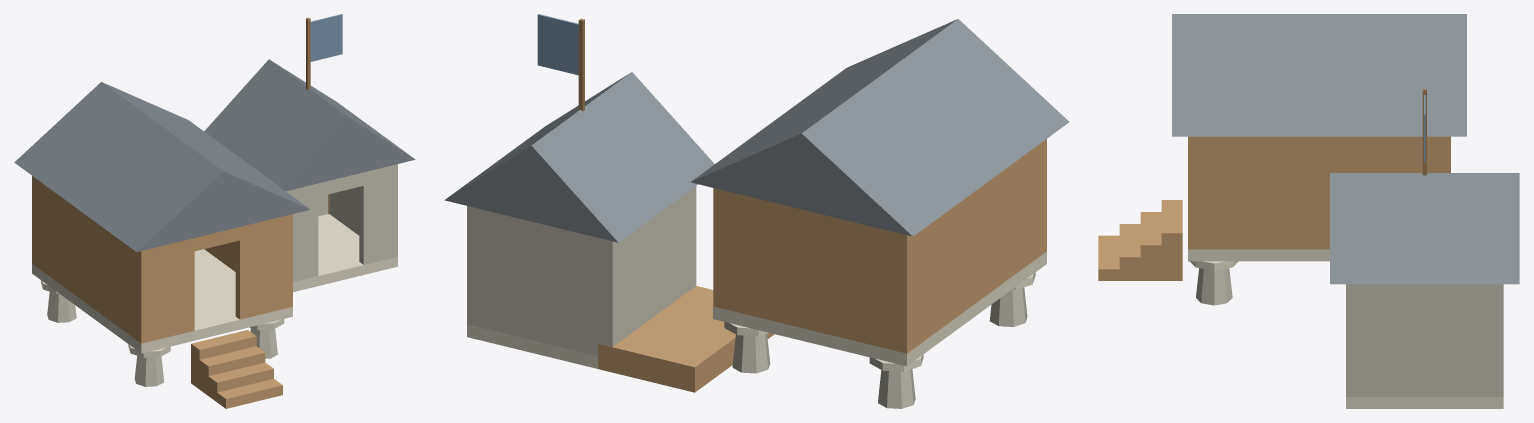
The model's file is granary-upgraded.glb.
The picture shows the model from 3 angles, left to right: view 1: azimuth 30°, elevation 25°; view 2: azimuth 150°, elevation 25°; view 3: azimuth 270°, elevation 25°; orthographic projection. The views are drawn at different scales.
Visible parts, largest first — view 1: granary-upgraded; view 2: granary-upgraded; view 3: granary-upgraded.
Boxes of the visible parts, left/top/right/bottom form: granary-upgraded: left=14, top=14, right=415, bottom=408; granary-upgraded: left=444, top=14, right=1069, bottom=408; granary-upgraded: left=1098, top=14, right=1519, bottom=408.
Bounding box in the file's own units: 9.1 × 6 × 8.
